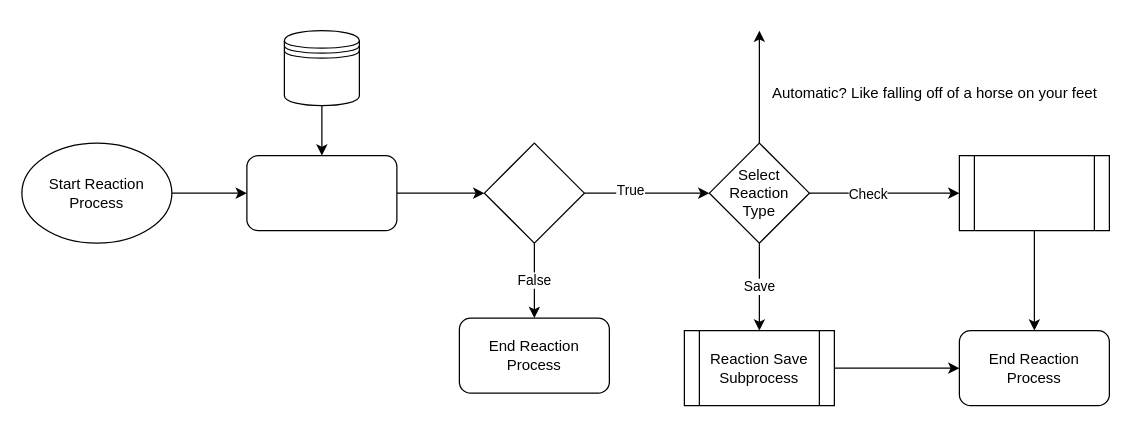
The diagram is 1131 pixels wide and 428 high, and some of its shapes have lost their labels. Here are the shapes that lost their labels. From the top down, the centre of each, then its label:
At (321,192): "Get Users status".
At (533,192): "If player status is suprised".
At (1033,192): "Reaction Check Subprocess".
